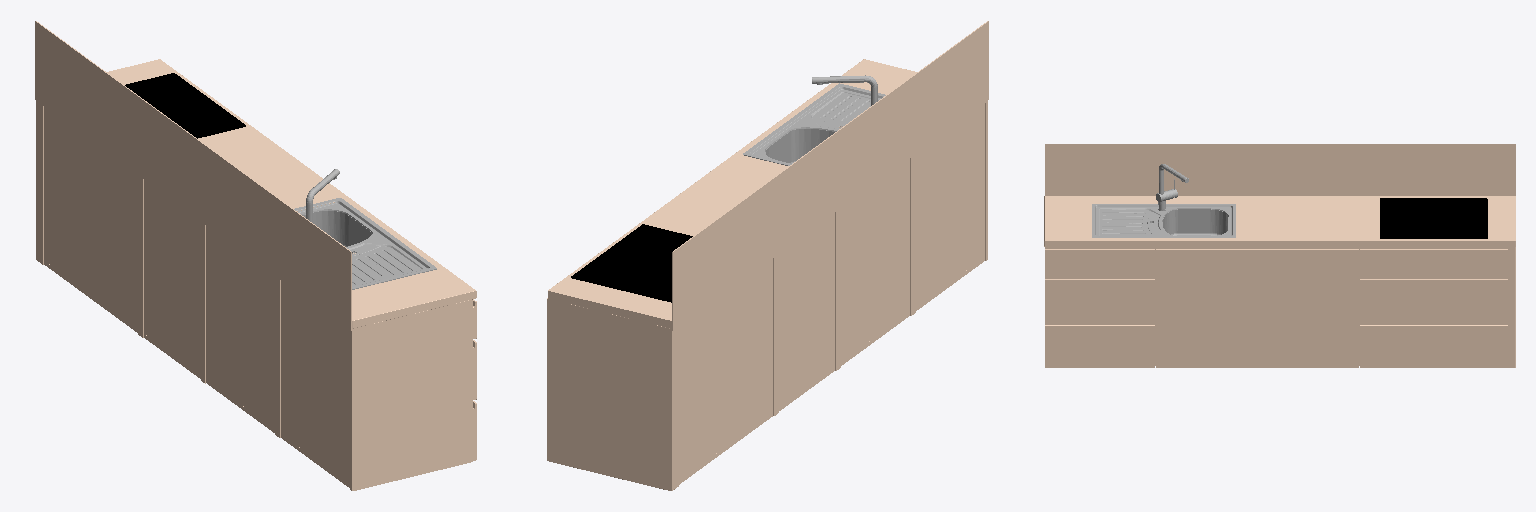
The robot description file, URDF, robot "elementB":
<?xml version="1.0" encoding="utf-8"?>
<!-- This URDF was automatically created by SolidWorks to URDF Exporter! Originally created by Stephen Brawner (brawner@gmail.com) 
     Commit Version: 1.6.0-1-g15f4949  Build Version: 1.6.7594.29634
     For more information, please see http://wiki.ros.org/sw_urdf_exporter -->
<robot
  name="elementB">
  <link
    name="base_link">
    <inertial>
      <origin
        xyz="0.313537640353887 1.34225796669673 0.402818397418737"
        rpy="0 0 0" />
      <mass
        value="182.199456226381" />
      <inertia
        ixx="34.1515019338191"
        ixy="-0.0795734538173952"
        ixz="-0.397765483189175"
        iyy="14.7254347378066"
        iyz="-0.0283456865477044"
        izz="33.4037867750965" />
    </inertial>
    <visual>
      <origin
        xyz="0 0 0"
        rpy="0 0 0" />
      <geometry>
        <mesh
          filename="package://elementB/meshes/base_link.STL" />
      </geometry>
      <material
        name="">
        <color
          rgba="1.0 0.89 0.8 1" />
      </material>
    </visual>
    <collision>
      <origin
        xyz="0 0 0"
        rpy="0 0 0" />
      <geometry>
        <mesh
          filename="package://elementB/meshes/base_link.STL" />
      </geometry>
    </collision>
  </link>
  <link
    name="link1">
    <inertial>
      <origin
        xyz="0.027339 0.02679 -0.14305"
        rpy="0 0 0" />
      <mass
        value="0.52332" />
      <inertia
        ixx="0.0067791"
        ixy="-0.00096258"
        ixz="0.00094621"
        iyy="0.0054549"
        iyz="0.0022785"
        izz="0.0028764" />
    </inertial>
    <visual>
      <origin
        xyz="0 0 0"
        rpy="0 0 0" />
      <geometry>
        <mesh
          filename="package://elementB/meshes/link1.STL" />
      </geometry>
      <material
        name="">
        <color
          rgba="0.75 0.75 0.75 1" />
      </material>
    </visual>
    <collision>
      <origin
        xyz="0 0 0"
        rpy="0 0 0" />
      <geometry>
        <mesh
          filename="package://elementB/meshes/link1.STL" />
      </geometry>
    </collision>
  </link>
  <joint
    name="joint1"
    type="revolute">
    <origin
      xyz="0.16134 0.63462 0.75051"
      rpy="-3.1416 0 1.5708" />
    <parent
      link="base_link" />
    <child
      link="link1" />
    <axis
      xyz="0 0 1" />
    <limit
      lower="-1.57"
      upper="1.57"
      effort="0"
      velocity="0" />
  </joint>
  <link
    name="link2">
    <inertial>
      <origin
        xyz="-0.019489 -0.17854 0.085513"
        rpy="0 0 0" />
      <mass
        value="1.609" />
      <inertia
        ixx="0.034401"
        ixy="-3.9494E-05"
        ixz="0.010759"
        iyy="0.08397"
        iyz="3.6388E-05"
        izz="0.10488" />
    </inertial>
    <visual>
      <origin
        xyz="0 0 0"
        rpy="0 0 0" />
      <geometry>
        <mesh
          filename="package://elementB/meshes/link2.STL" />
      </geometry>
      <material
        name="">
        <color
          rgba="0.75 0.75 0.75 1" />
      </material>
    </visual>
    <collision>
      <origin
        xyz="0 0 0"
        rpy="0 0 0" />
      <geometry>
        <mesh
          filename="package://elementB/meshes/link2.STL" />
      </geometry>
    </collision>
  </link>
  <joint
    name="joint2"
    type="fixed">
    <origin
      xyz="0.14743 0.71981 0.60301"
      rpy="0 0 1.5708" />
    <parent
      link="base_link" />
    <child
      link="link2" />
    <axis
      xyz="0 0 0" />
  </joint>
  <link
    name="link3">
    <inertial>
      <origin
        xyz="0 0 0"
        rpy="0 0 0" />
      <mass
        value="0" />
      <inertia
        ixx="0"
        ixy="0"
        ixz="0"
        iyy="0"
        iyz="0"
        izz="0" />
    </inertial>
    <visual>
      <origin
        xyz="0 0 0"
        rpy="0 0 0" />
      <geometry>
        <mesh
          filename="package://elementB/meshes/link3.STL" />
      </geometry>
      <material
        name="">
        <color
          rgba="0.0 0.0 0.0 1" />
      </material>
    </visual>
    <collision>
      <origin
        xyz="0 0 0"
        rpy="0 0 0" />
      <geometry>
        <mesh
          filename="package://elementB/meshes/link3.STL" />
      </geometry>
    </collision>
  </link>
  <joint
    name="joint3"
    type="fixed">
    <origin
      xyz="0.0585000000000488 1.82327999999997 0.71051"
      rpy="0 0 1.5707963267949" />
    <parent
      link="base_link" />
    <child
      link="link3" />
    <axis
      xyz="0 0 0" />
  </joint>
</robot>

--- Facts derived from the render (not from the file) ---
The picture shows the robot from 3 angles, left to right: view 1: azimuth 30°, elevation 25°; view 2: azimuth 150°, elevation 25°; view 3: azimuth 270°, elevation 25°; orthographic projection.
Robot: elementB — 4 links, 3 joints (1 revolute, 2 fixed); root link base_link; default pose: every joint at zero.
Visible links, largest first — view 1: base_link, link2, link3; view 2: base_link, link3, link2, link1; view 3: base_link, link2, link3, link1.
Boxes of the visible links, x1,y1,x2,y2 form: base_link: [35, 21, 476, 490]; link2: [294, 198, 436, 289]; link3: [125, 73, 245, 138]; base_link: [547, 21, 988, 490]; link3: [571, 224, 692, 302]; link2: [743, 83, 885, 165]; link1: [812, 75, 877, 105]; base_link: [1044, 144, 1515, 367]; link2: [1092, 204, 1235, 237]; link3: [1380, 198, 1487, 238]; link1: [1156, 164, 1188, 210].
Size in the robot's own frame: 0.5851 by 2.54 by 1.06 metres.
4 mesh visuals loaded from 4 distinct referenced files (4 binary STL).
